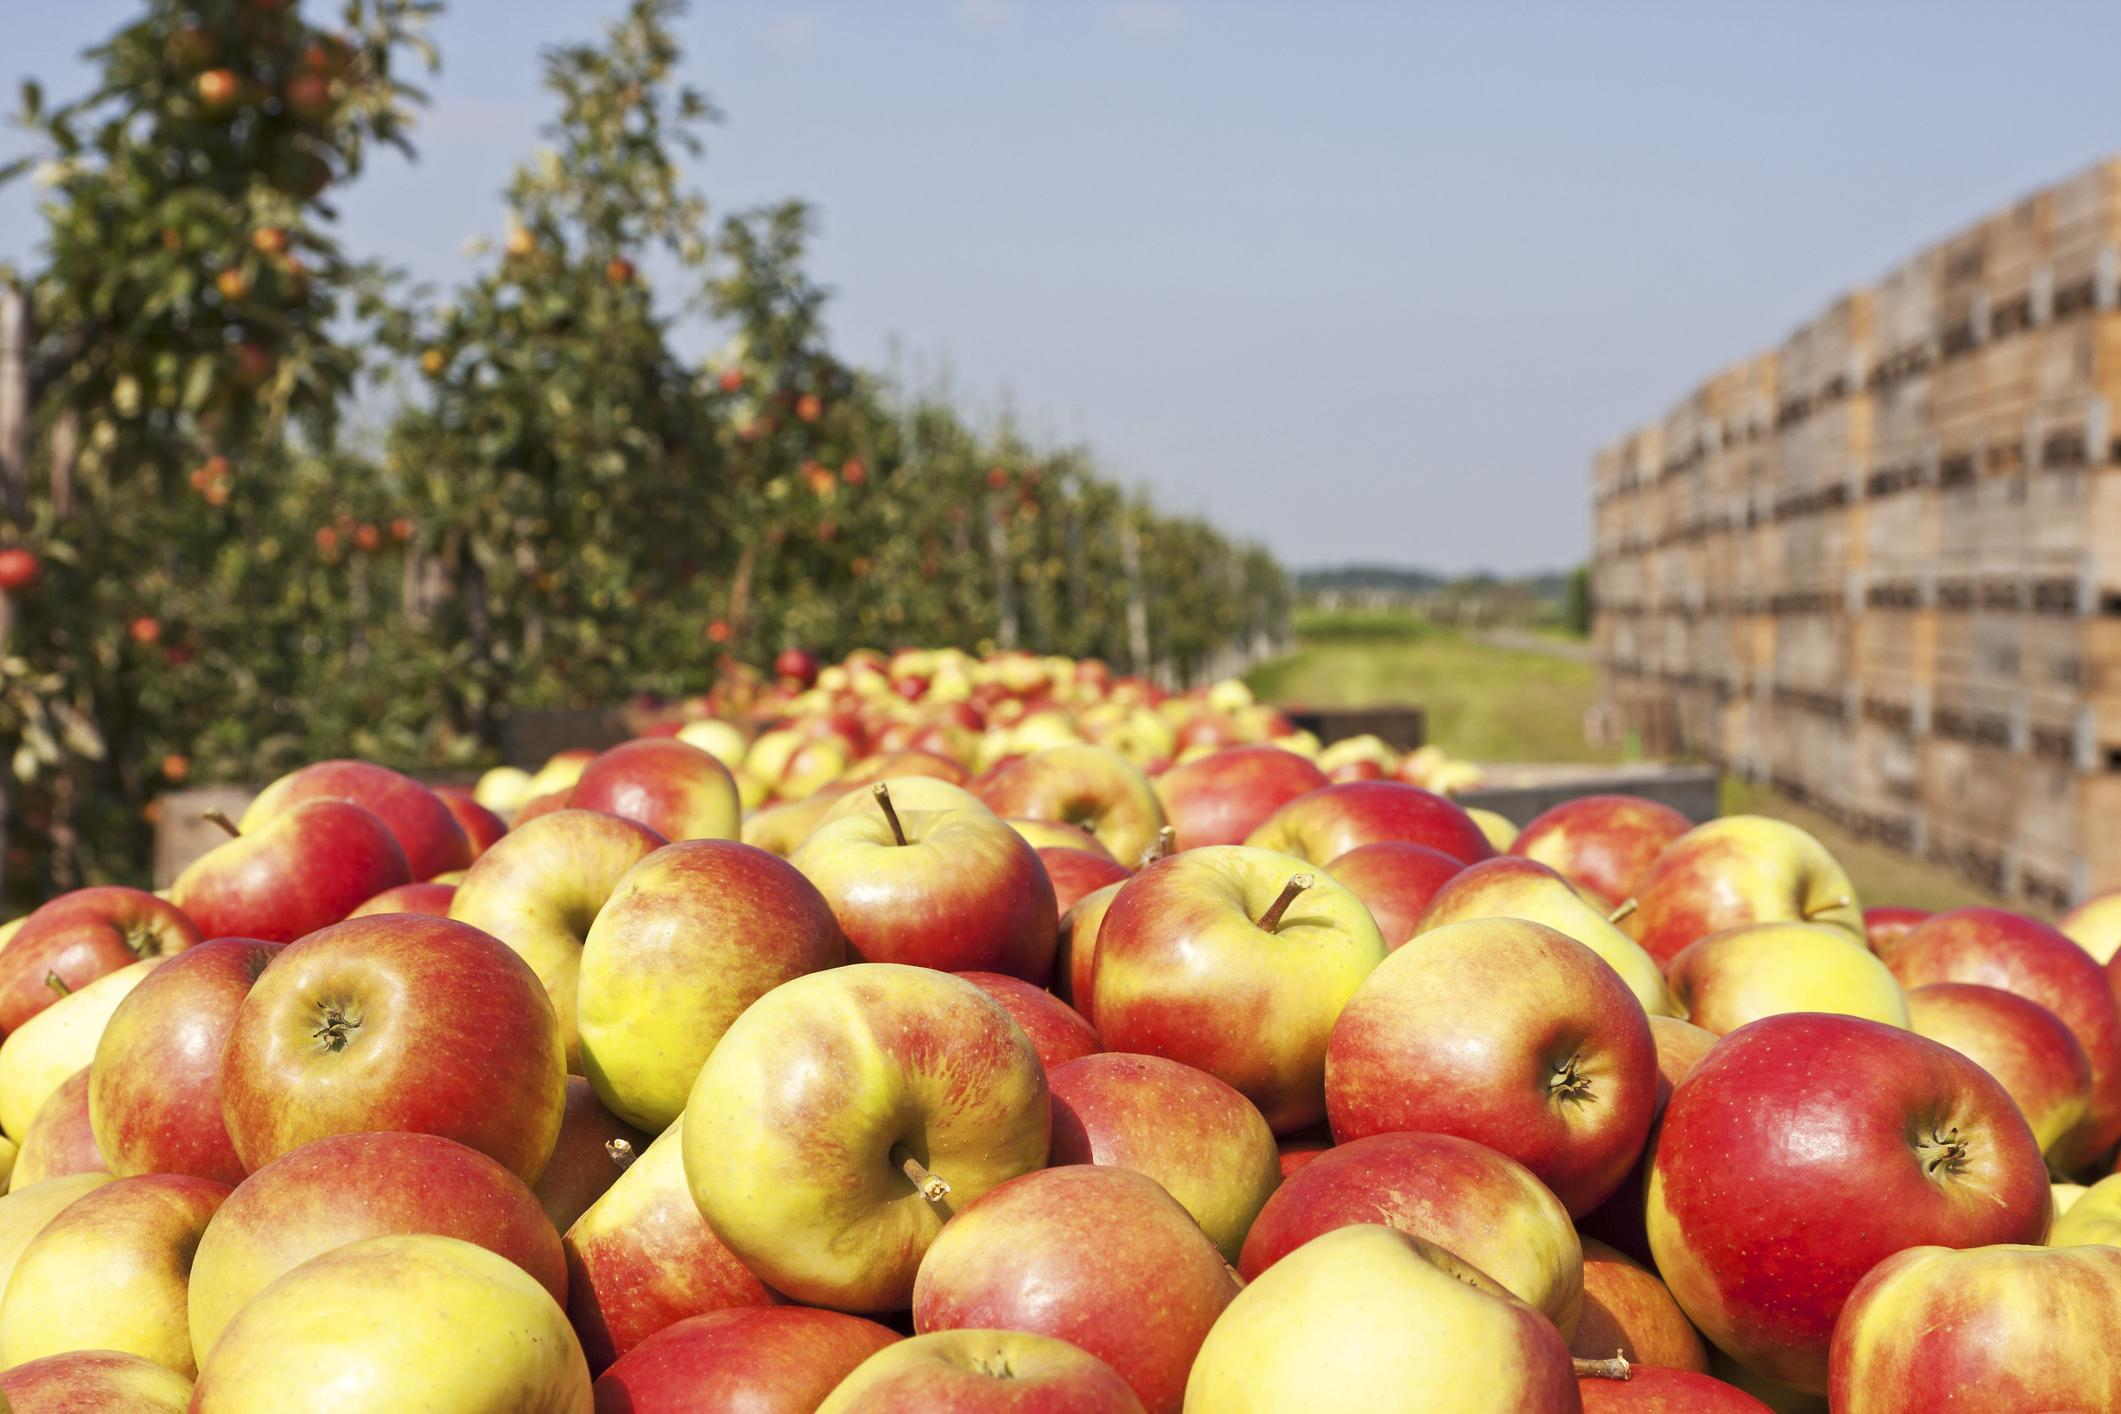apple: (1644, 1012, 2053, 1392), (675, 963, 1053, 1304), (223, 911, 567, 1190), (1329, 918, 1659, 1204), (900, 1155, 1244, 1411), (186, 1127, 563, 1346), (1089, 844, 1379, 1120), (1180, 1236, 1584, 1409), (576, 840, 829, 1113), (1820, 1242, 2121, 1412), (791, 810, 1060, 982)
